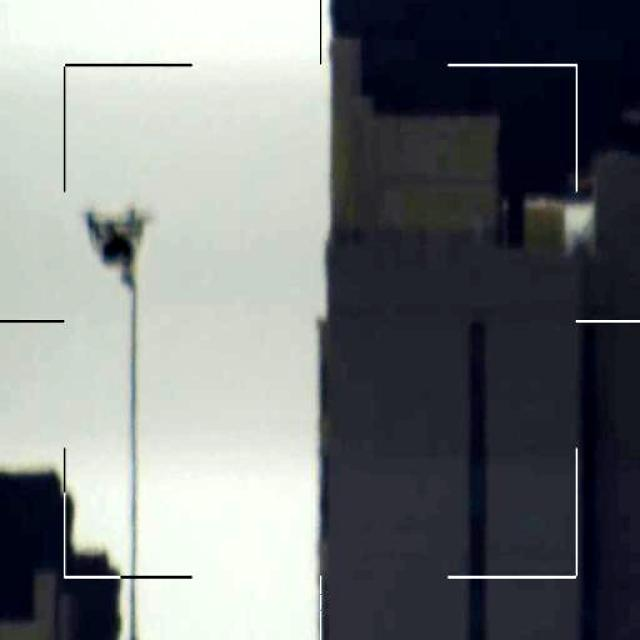bird: (84, 200, 146, 292)
